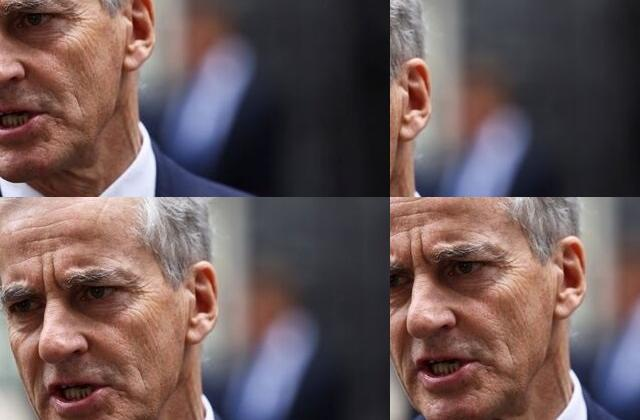crows_feet: (117, 219, 145, 249), (494, 250, 510, 274), (381, 276, 390, 308)
forehead: (136, 0, 182, 63), (188, 0, 257, 36), (62, 36, 128, 63), (65, 7, 129, 31), (338, 197, 390, 208), (390, 208, 439, 219), (391, 197, 437, 206)
frown_line: (134, 72, 176, 116), (406, 234, 426, 266)
gummy_smile: (150, 346, 190, 396), (299, 353, 327, 415)
masseter: (120, 377, 139, 420), (369, 311, 390, 346), (503, 339, 519, 367)
